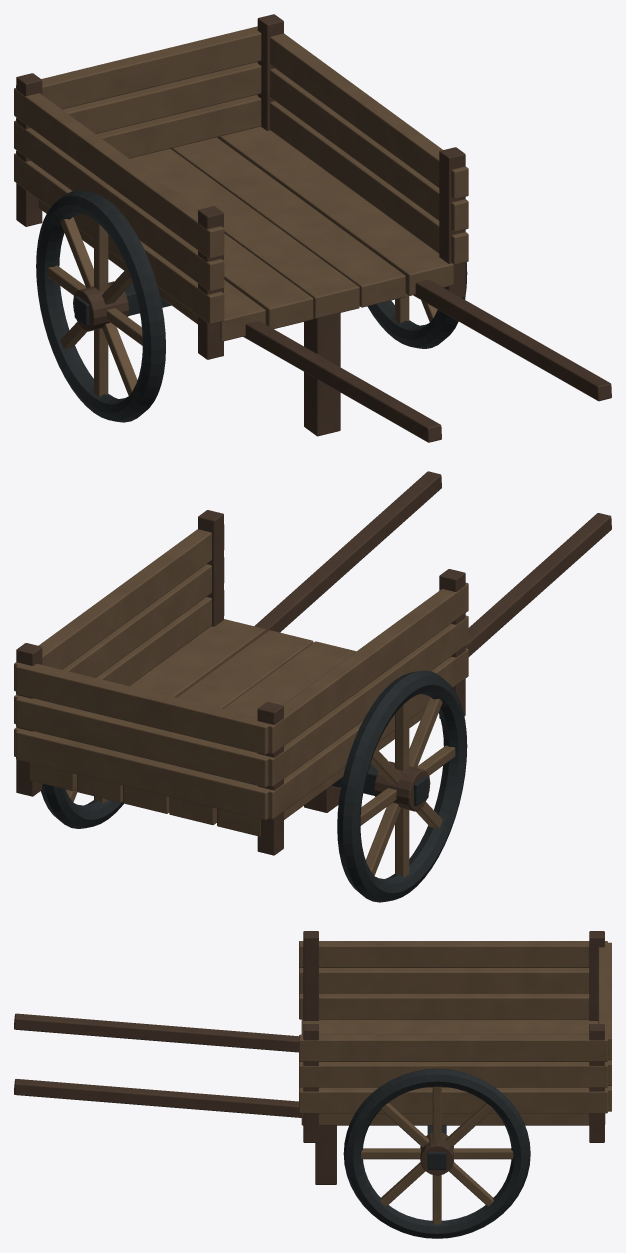
File: Handcart.fbx
The picture shows the model from 3 angles, top to bottom: view 1: azimuth 30°, elevation 25°; view 2: azimuth 150°, elevation 25°; view 3: azimuth 270°, elevation 25°; orthographic projection. The views are drawn at different scales.
Parts seen in each view (by area): view 1: Handcart.001; view 2: Handcart.001; view 3: Handcart.001.
Part boxes in pixels (x1=…): Handcart.001: x1=14, y1=14, x2=611, y2=442; Handcart.001: x1=14, y1=471, x2=611, y2=902; Handcart.001: x1=14, y1=931, x2=611, y2=1238.
Size of the model in its own units: 2.3 by 1.63 by 4.41.
